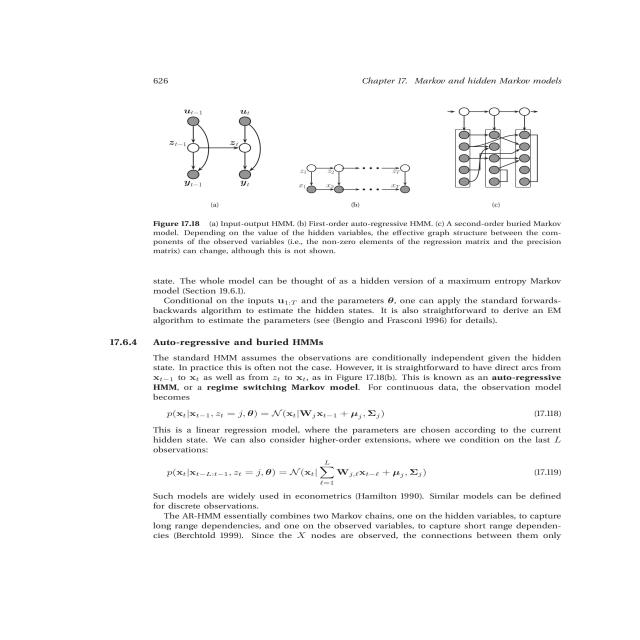diagram: (118, 102, 612, 264)
